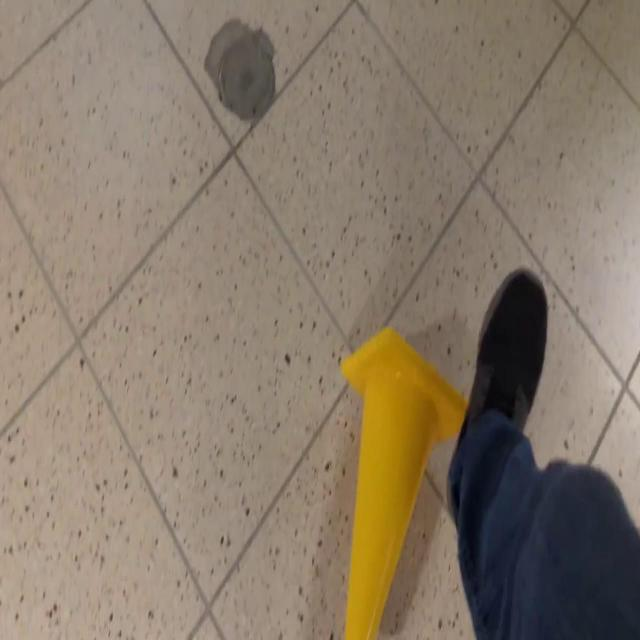frc_cone: (340, 326, 468, 640)
